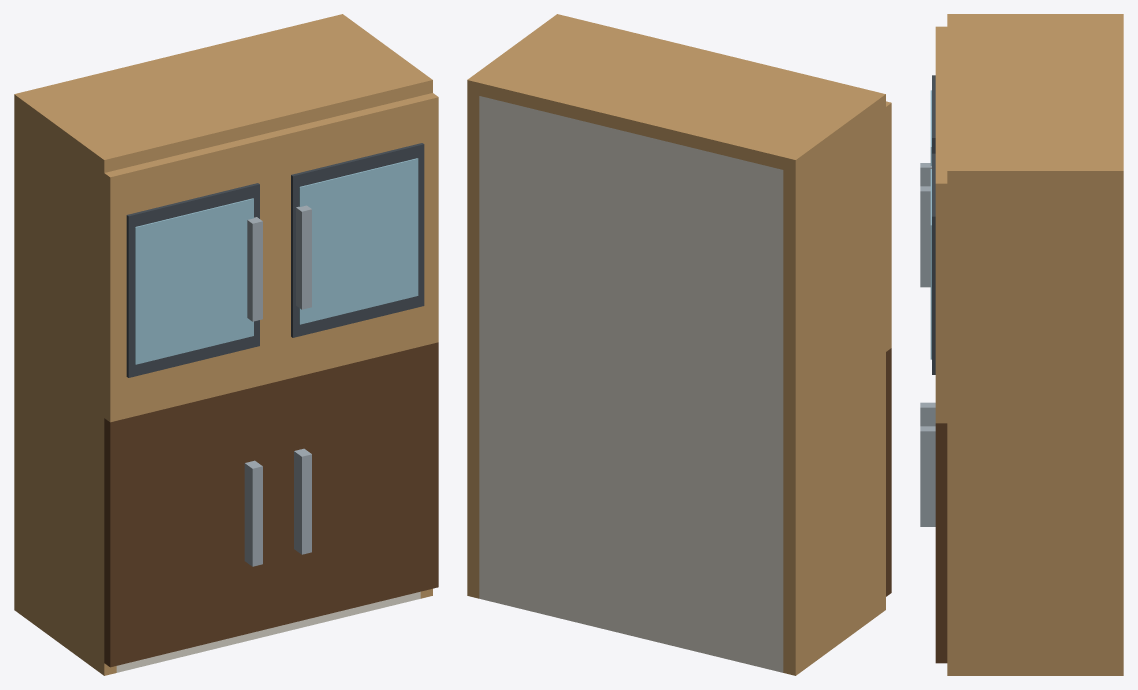
The model's file is GI_Cabinet_01.glb.
3 views of the same model, side by side, from view 1: azimuth 30°, elevation 25°; view 2: azimuth 150°, elevation 25°; view 3: azimuth 270°, elevation 25° (orthographic). The views are drawn at different scales.
Parts seen in each view (by area): view 1: GI_Cabinet_01, DoorUL, DoorLL, DoorUR, DoorLR; view 2: GI_Cabinet_01, DoorUL, DoorLL; view 3: GI_Cabinet_01, DoorUR, DoorLR, DoorUL, DoorLL.
Boxes of the visible parts, bbox=[...] form: GI_Cabinet_01: bbox=[14, 14, 432, 675]; DoorUL: bbox=[104, 133, 274, 422]; DoorLL: bbox=[104, 382, 274, 667]; DoorUR: bbox=[269, 93, 438, 381]; DoorLR: bbox=[274, 342, 438, 626]; GI_Cabinet_01: bbox=[467, 14, 885, 675]; DoorUL: bbox=[886, 101, 891, 351]; DoorLL: bbox=[886, 348, 891, 596]; GI_Cabinet_01: bbox=[947, 14, 1123, 675]; DoorUR: bbox=[920, 105, 947, 423]; DoorLR: bbox=[920, 423, 947, 663]; DoorUL: bbox=[920, 26, 947, 186]; DoorLL: bbox=[920, 402, 935, 426].
Bounding box in the file's own units: 0.8 × 1.2 × 0.438.
Materials: 1 (1 with a texture image).
